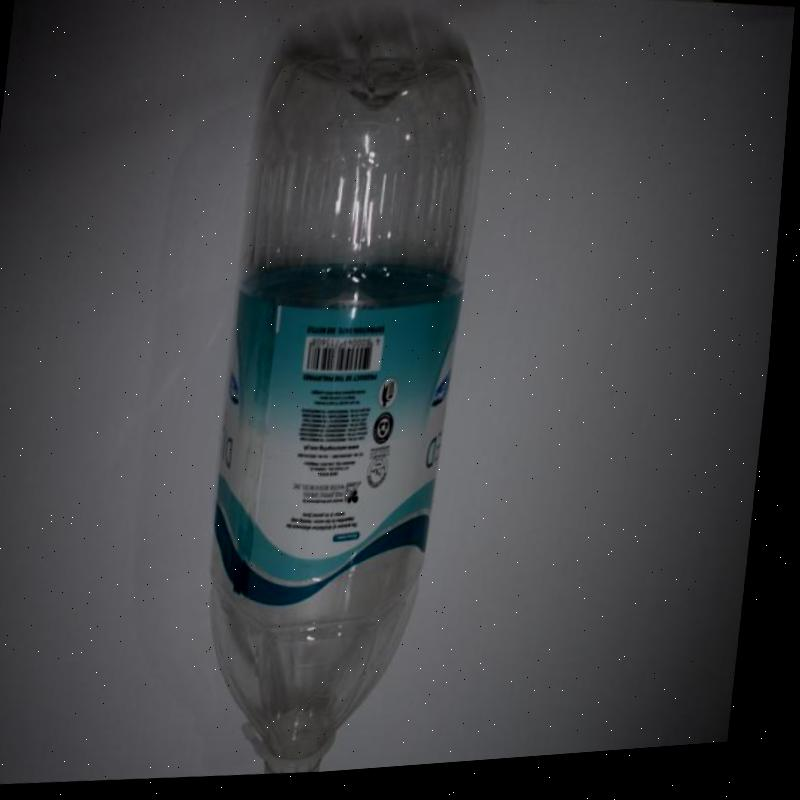botella: (199, 42, 496, 786)
